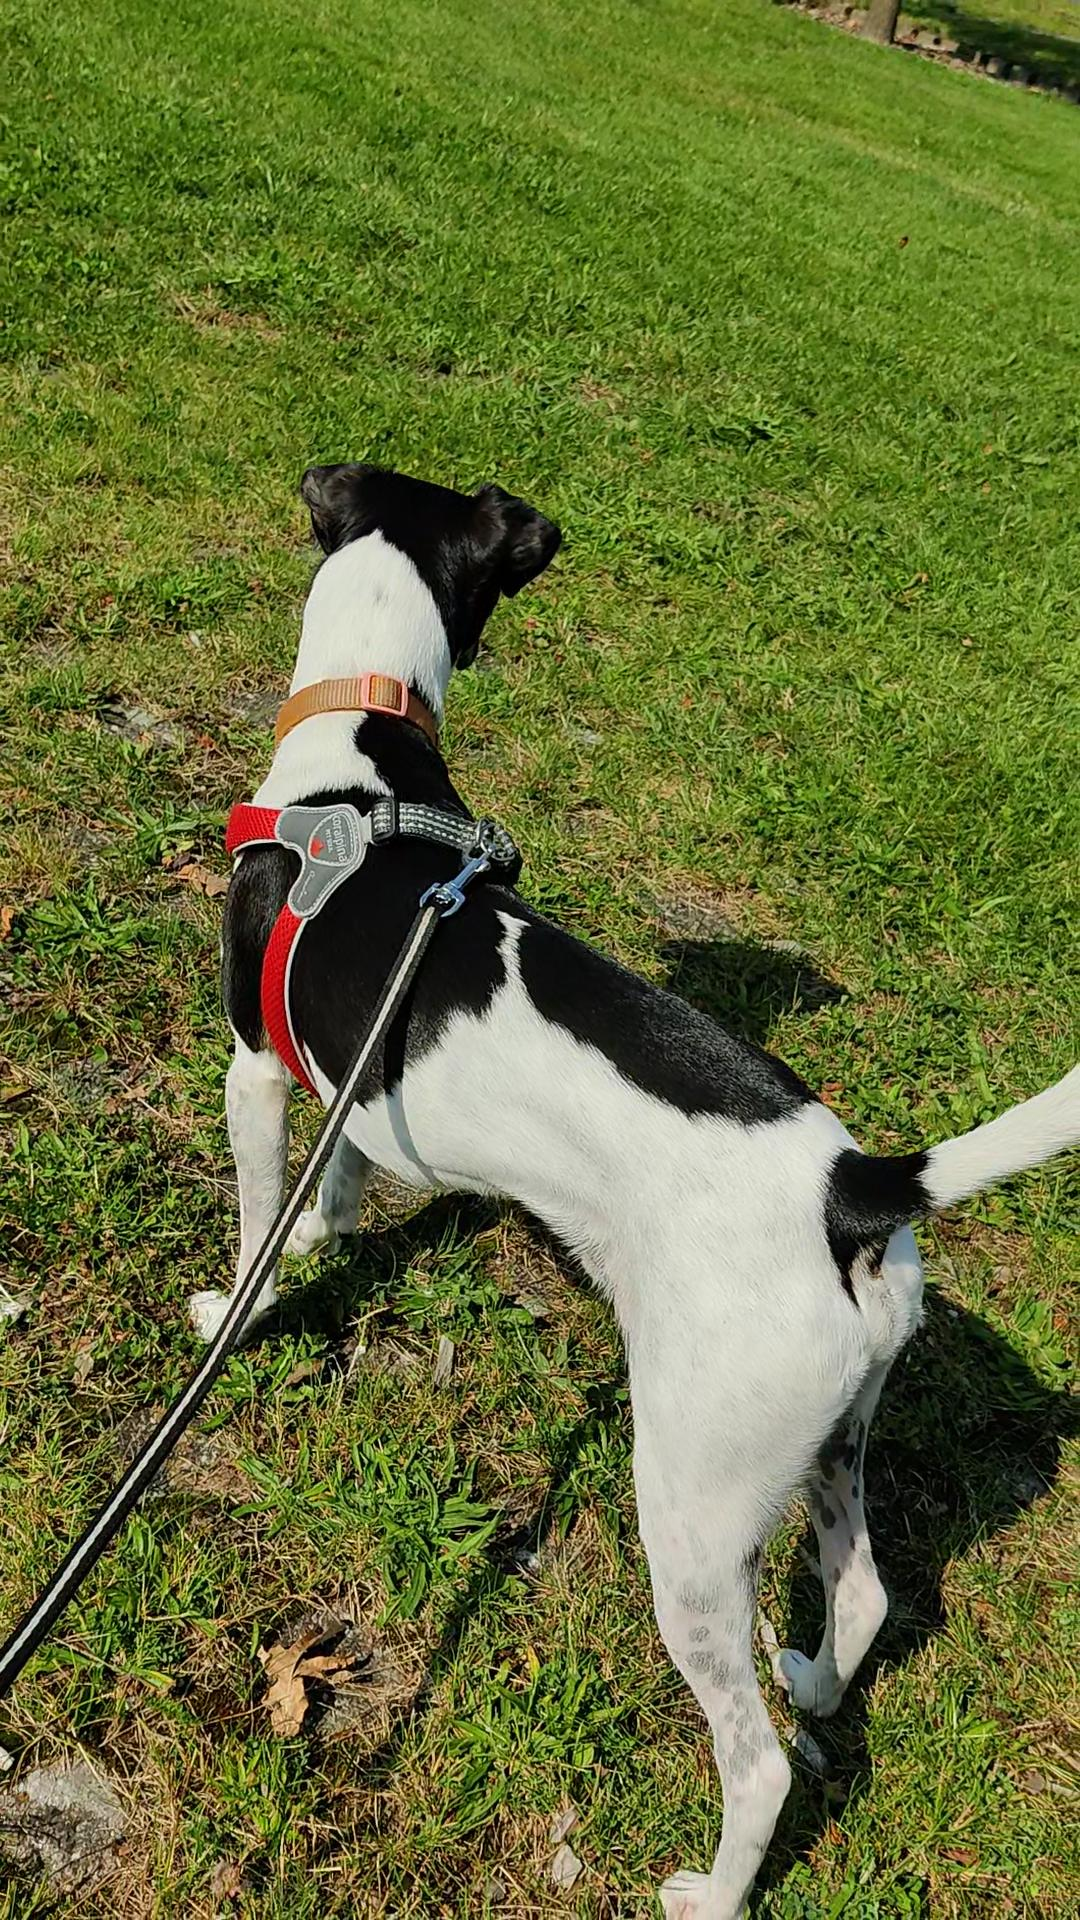Dog: (171, 458, 1079, 1919)
